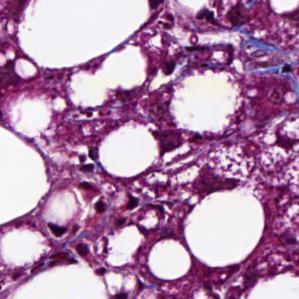inflammation: (88, 188, 156, 218), (176, 39, 237, 70), (61, 233, 113, 268), (74, 153, 106, 197), (265, 129, 299, 156)
